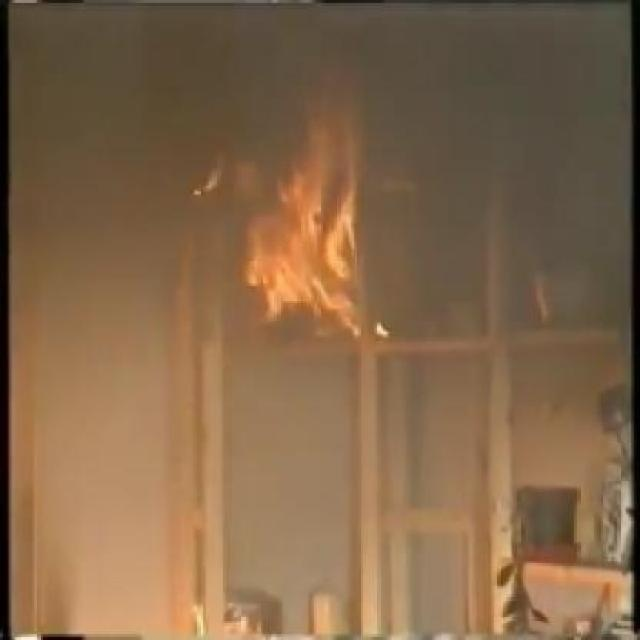fire: (173, 47, 407, 350)
